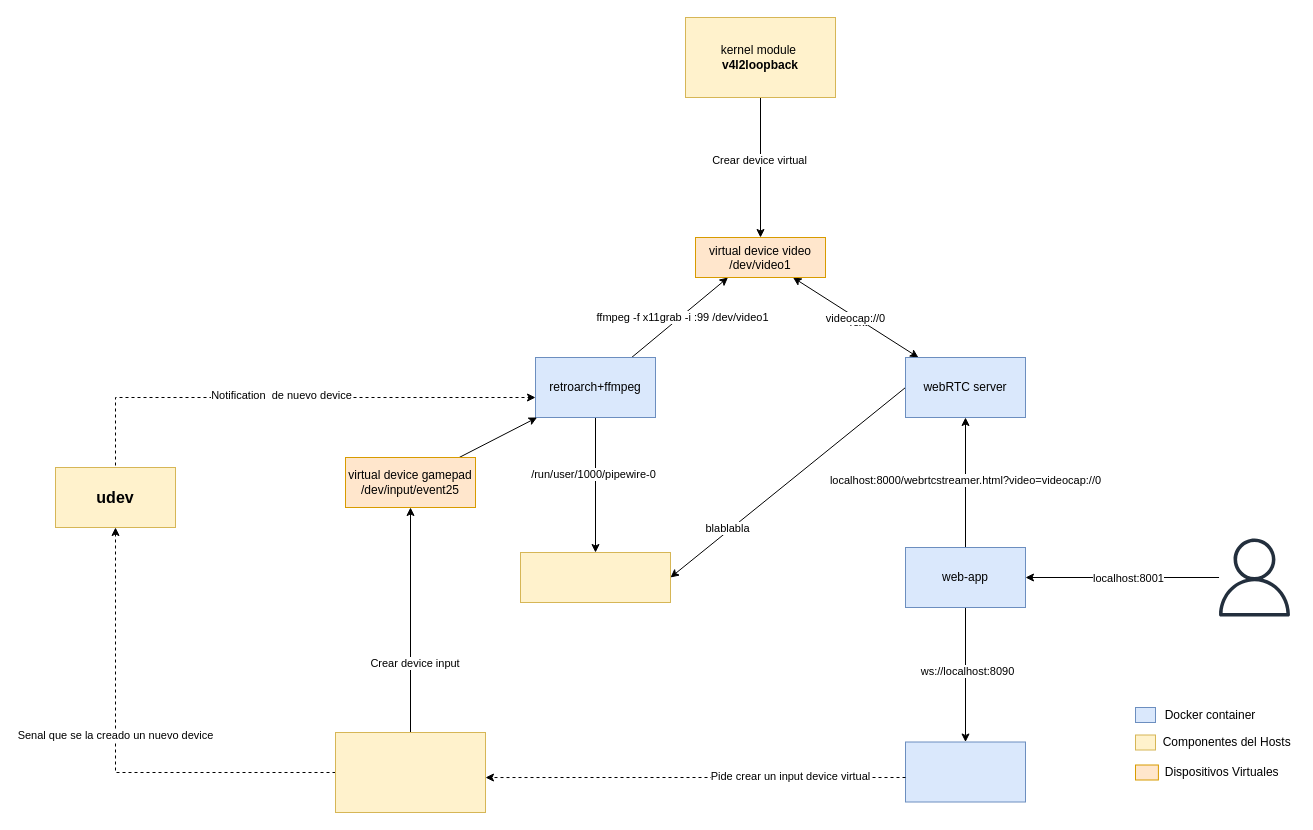
Some shapes in this 1313 by 830 pixel diagram are drawn without their labels. Each missing label, with the centre of its shape:
"kernel module uinput" belongs at point (410, 772).
"pipewire hosts" belongs at point (595, 577).
"server-events" belongs at point (965, 771).
"User" belongs at point (1254, 577).
